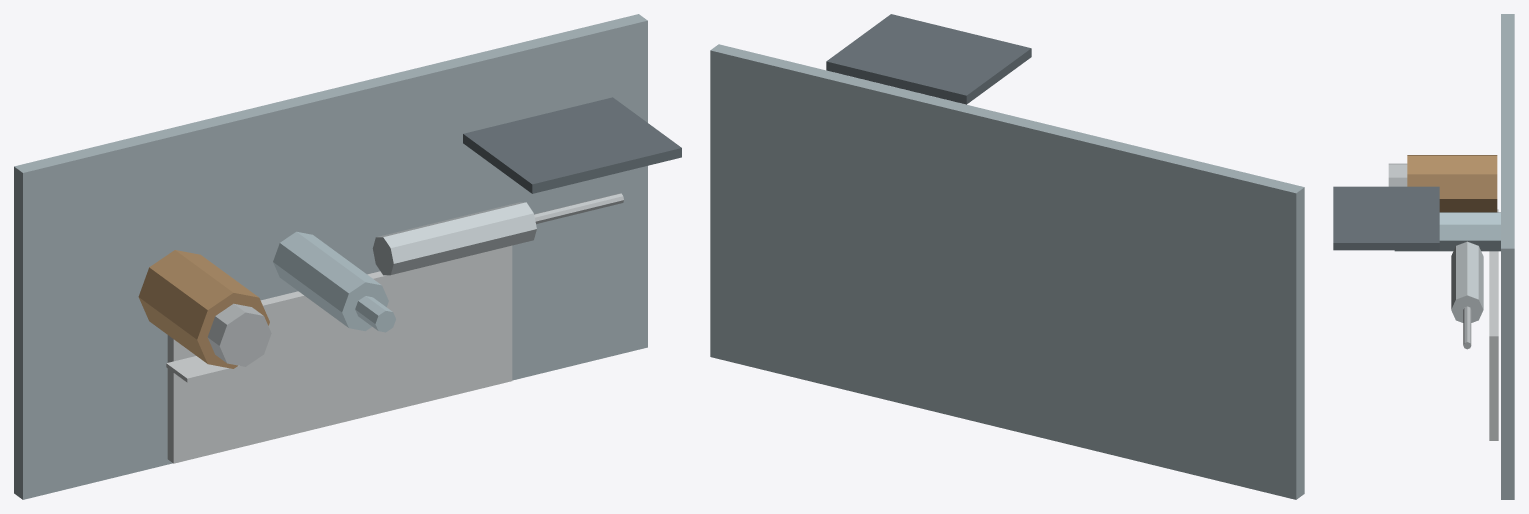
The model's file is medication-bench-low.glb.
The picture shows the model from 3 angles, left to right: view 1: azimuth 30°, elevation 25°; view 2: azimuth 150°, elevation 25°; view 3: azimuth 270°, elevation 25°; orthographic projection. The views are drawn at different scales.
Parts seen in each view (by area): view 1: workbench, tray, case_board, vial_body, training_syringe_barrel, ampoule_body, vial_cap, vial_label, training_syringe_tip, ampoule_neck; view 2: workbench, case_board; view 3: case_board, workbench, vial_body, ampoule_body, training_syringe_barrel, tray, vial_cap, training_syringe_tip.
Boxes of the visible parts, bbox=[...] form: workbench: bbox=[14, 14, 647, 499]; tray: bbox=[167, 245, 512, 463]; case_board: bbox=[463, 97, 681, 193]; vial_body: bbox=[138, 250, 269, 368]; training_syringe_barrel: bbox=[372, 202, 536, 275]; ampoule_body: bbox=[273, 231, 388, 331]; vial_cap: bbox=[207, 303, 271, 366]; vial_label: bbox=[166, 356, 249, 382]; training_syringe_tip: bbox=[534, 193, 623, 223]; ampoule_neck: bbox=[355, 296, 395, 332]; workbench: bbox=[710, 44, 1304, 499]; case_board: bbox=[826, 14, 1031, 104]; case_board: bbox=[1333, 186, 1439, 250]; workbench: bbox=[1501, 14, 1514, 499]; vial_body: bbox=[1407, 155, 1497, 212]; ampoule_body: bbox=[1394, 212, 1500, 251]; training_syringe_barrel: bbox=[1451, 241, 1483, 322]; tray: bbox=[1489, 209, 1498, 440]; vial_cap: bbox=[1388, 163, 1407, 186]; training_syringe_tip: bbox=[1463, 306, 1471, 349].
Size of the model in its own units: 4.8 by 2.4 by 1.57.
